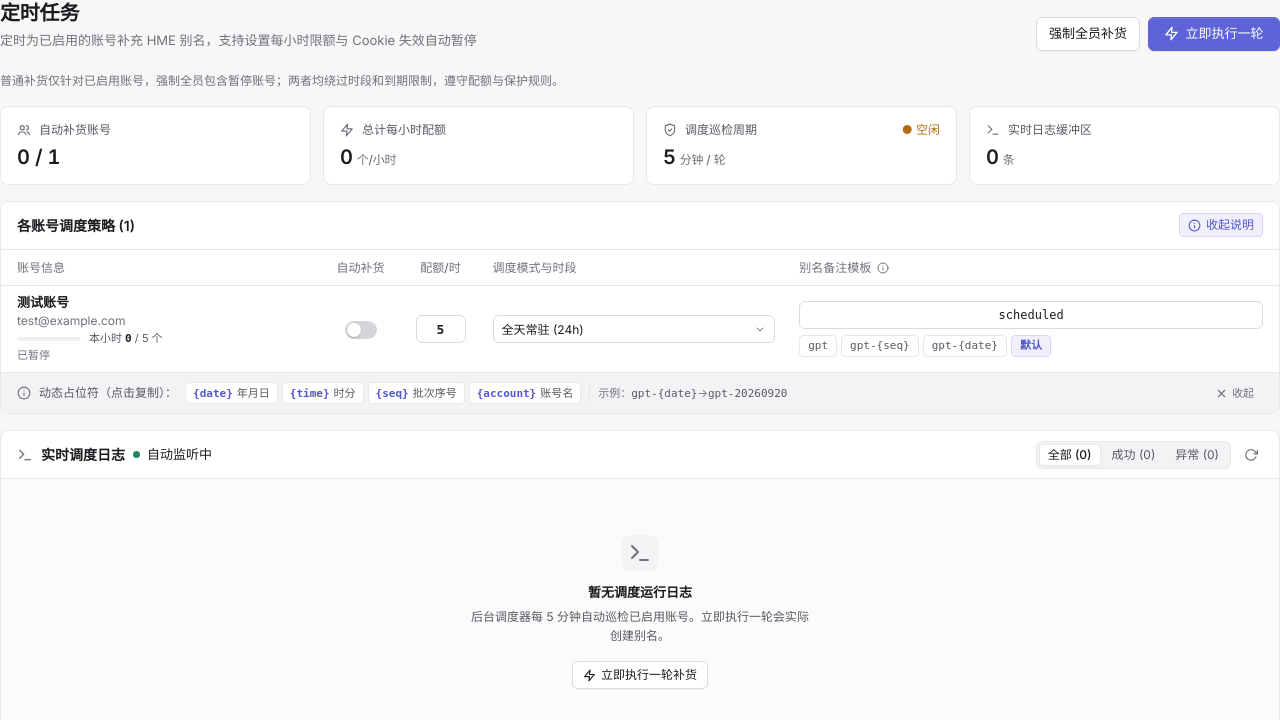
Test: 触发时淘汰旧状态请求，只用触发后的真实状态，不伪造执行中
Click the button "立即执行一轮" at {"x": 1214, "y": 34}, box 1148,17 -> 1279,51
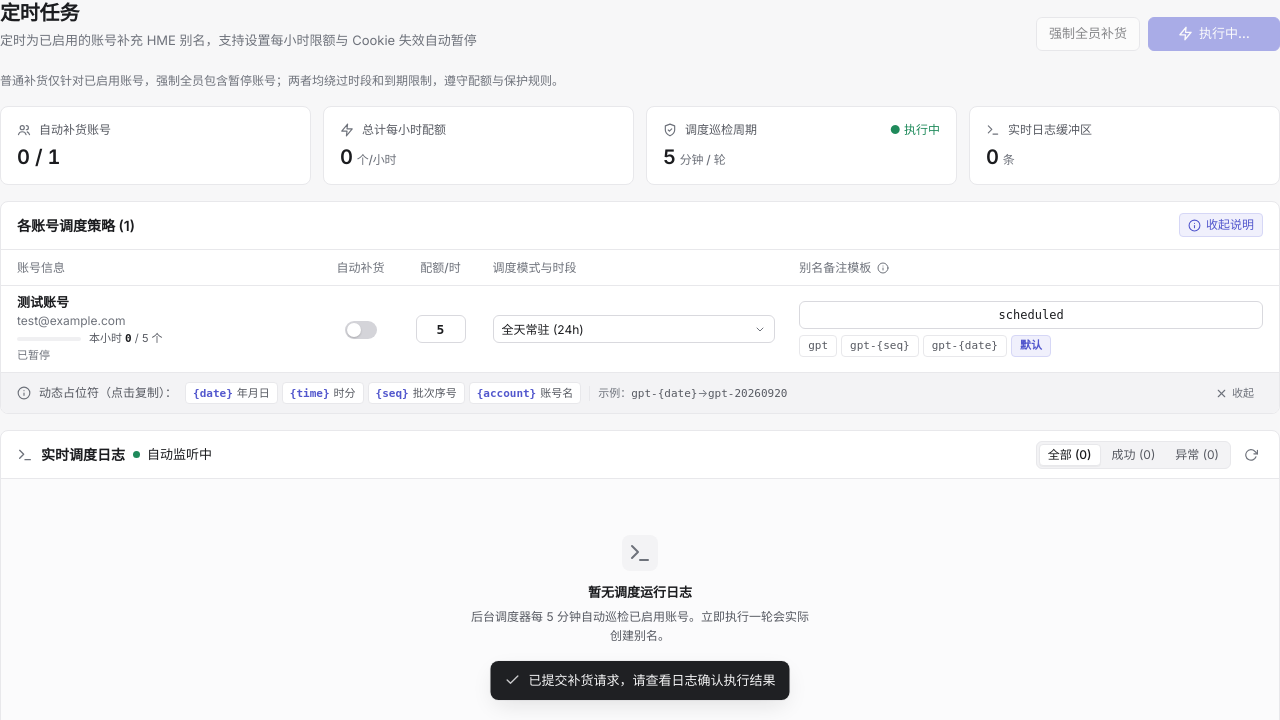
Now the button named "触发中…" is disabled, box 1148,17 -> 1279,51
Now the button "执行中…" is disabled, box 1148,17 -> 1279,51
Now the text "已提交补货请求，请查看日志确认执行结果" is shown, box 528,670 -> 776,690
